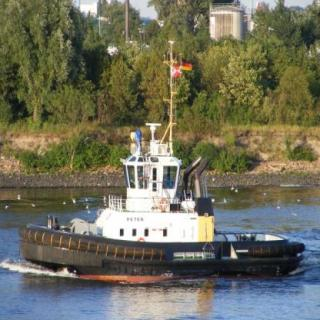Tug Boat: (15, 120, 308, 282)
